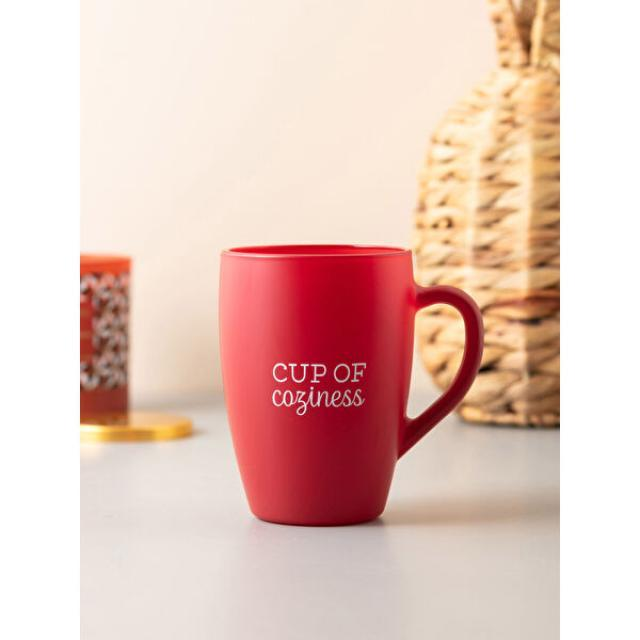Coffee Mug: (218, 242, 486, 529)
